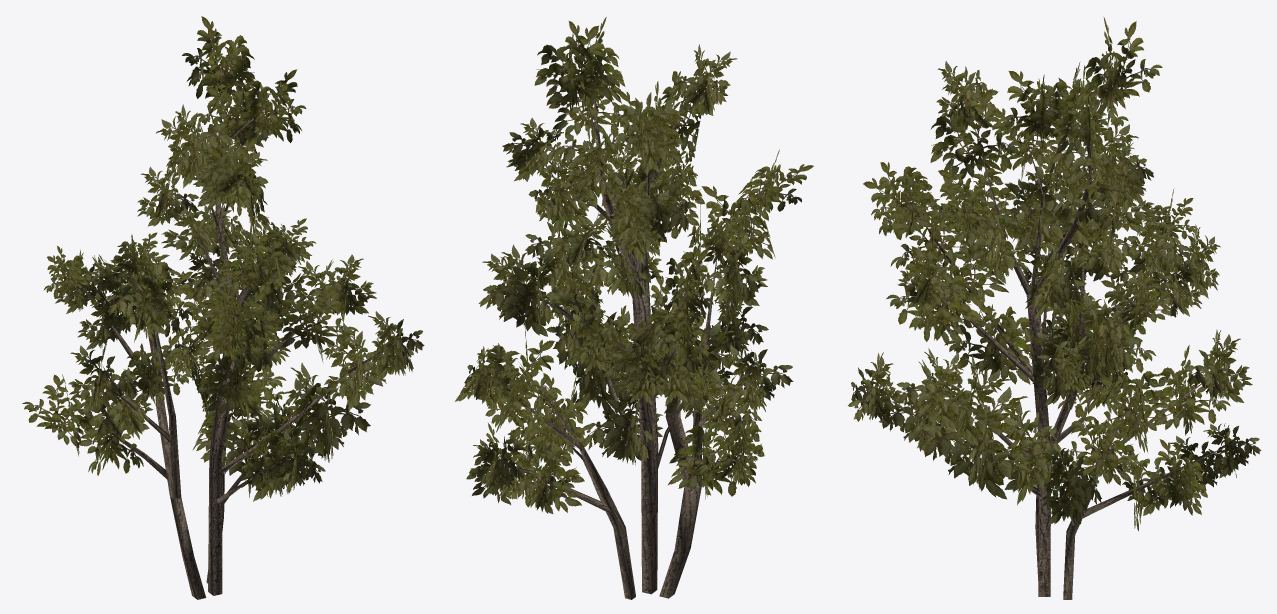
Rendered from Vegetation_Tree03.glb.
3 views of the same model, side by side, from view 1: azimuth 30°, elevation 25°; view 2: azimuth 150°, elevation 25°; view 3: azimuth 270°, elevation 25° (orthographic). The views are drawn at different scales.
Visible parts, largest first — view 1: xiutz_tree03_0; view 2: xiutz_tree03_0; view 3: xiutz_tree03_0.
Part boxes in pixels (bbox=[...]): xiutz_tree03_0: bbox=[22, 16, 424, 599]; xiutz_tree03_0: bbox=[455, 17, 813, 599]; xiutz_tree03_0: bbox=[848, 17, 1261, 599].
Size of the model in its own units: 5.18 by 8.55 by 5.46.
2 materials, 2 textured.
